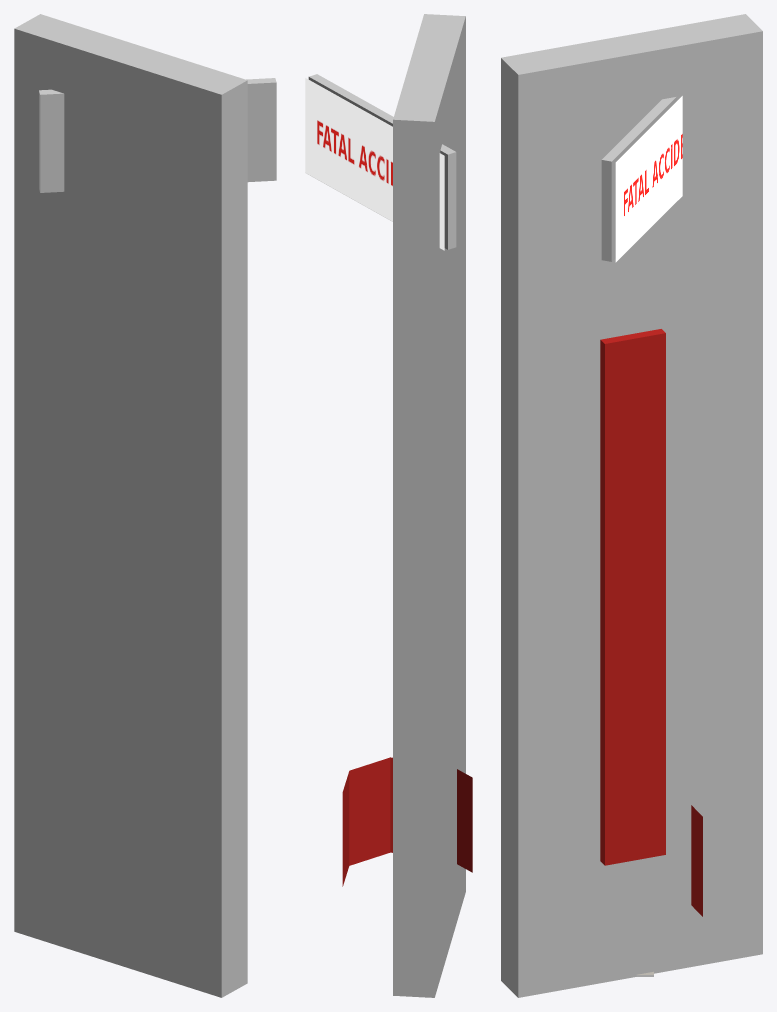
Rendered from noord_thermo.glb.
The picture shows the model from 3 angles, left to right: view 1: azimuth 30°, elevation 25°; view 2: azimuth 150°, elevation 25°; view 3: azimuth 270°, elevation 25°; orthographic projection. The views are drawn at different scales.
Visible parts, largest first — view 1: noord_thermo_lod0; view 2: noord_thermo_lod0; view 3: noord_thermo_lod0.
Part boxes in pixels (box(x1,y1,x2,y2)): noord_thermo_lod0: box(14, 14, 276, 997); noord_thermo_lod0: box(305, 14, 472, 997); noord_thermo_lod0: box(501, 14, 762, 997).
Size of what is drawn, in the model's own units: 1.05 by 4.6 by 1.18.
6 materials, 1 textured.
